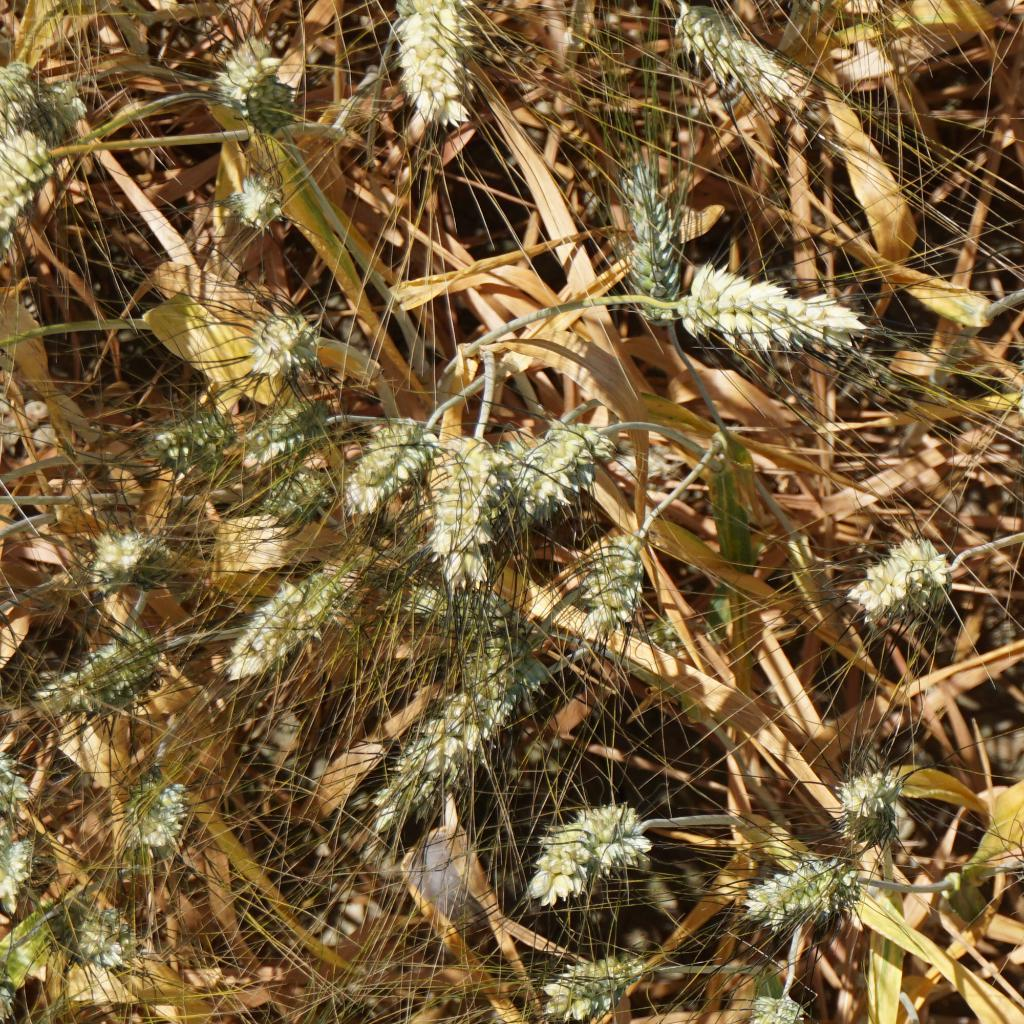0-0: (675, 271, 856, 364), (665, 4, 799, 129), (374, 695, 507, 819), (539, 799, 667, 905), (392, 0, 486, 137), (230, 567, 341, 674), (607, 162, 678, 305), (435, 435, 503, 583), (47, 632, 169, 712), (571, 523, 651, 635), (848, 536, 948, 617), (211, 31, 295, 122), (758, 853, 861, 927), (119, 777, 211, 859), (512, 426, 601, 503), (0, 122, 44, 274), (459, 591, 519, 689), (248, 391, 325, 466), (355, 419, 416, 507), (550, 960, 631, 1024), (250, 307, 315, 384), (835, 763, 904, 832), (73, 526, 157, 581), (223, 164, 295, 224), (82, 905, 133, 975), (268, 459, 320, 521), (150, 409, 217, 457), (0, 819, 35, 900), (739, 987, 813, 1024), (0, 735, 32, 809), (0, 54, 25, 146)
